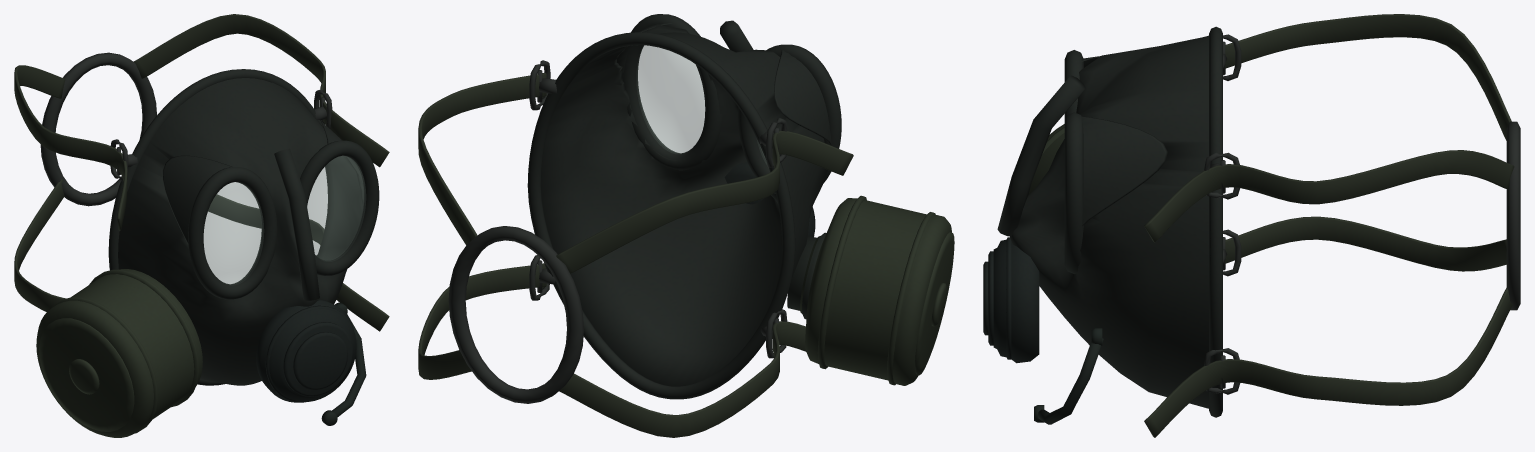
The model's file is K1_GasMask.fbx.
3 views of the same model, side by side, from view 1: azimuth 30°, elevation 25°; view 2: azimuth 150°, elevation 25°; view 3: azimuth 270°, elevation 25° (orthographic). The views are drawn at different scales.
Parts seen in each view (by area): view 1: Part_Facepiece, Part_FilterCanister, Part_Harness, Part_FrontAssembly, Part_Lens_L, Part_Buckles, Part_Lens_R, Part_TubeAssembly; view 2: Part_Facepiece, Part_FilterCanister, Part_Harness, Part_Buckles, Part_Lens_R, Part_FilterConnector, Part_FrontAssembly; view 3: Part_Facepiece, Part_Harness, Part_FrontAssembly, Part_Buckles, Part_TubeAssembly, Part_FilterCanister.
Boxes of the visible parts, box(x1,y1,x2,y2) form: Part_Facepiece: box(108, 69, 379, 385); Part_FilterCanister: box(36, 269, 202, 437); Part_Harness: box(14, 14, 389, 331); Part_FrontAssembly: box(256, 299, 356, 402); Part_Lens_L: box(204, 182, 263, 285); Part_Buckles: box(40, 52, 332, 255); Part_Lens_R: box(307, 156, 365, 261); Part_TubeAssembly: box(321, 302, 366, 425); Part_Facepiece: box(527, 14, 841, 399); Part_FilterCanister: box(800, 195, 954, 385); Part_Harness: box(418, 72, 853, 437); Part_Buckles: box(448, 60, 787, 403); Part_Lens_R: box(636, 45, 704, 153); Part_FilterConnector: box(787, 232, 826, 319); Part_FrontAssembly: box(724, 162, 815, 236); Part_Facepiece: box(997, 26, 1222, 417); Part_Harness: box(1144, 14, 1514, 437); Part_FrontAssembly: box(983, 237, 1039, 363); Part_Buckles: box(1204, 34, 1520, 394); Part_TubeAssembly: box(1034, 328, 1103, 424); Part_FilterCanister: box(1028, 124, 1064, 194).
Size of the model in its own units: 0.2701 by 0.234 by 0.307.
